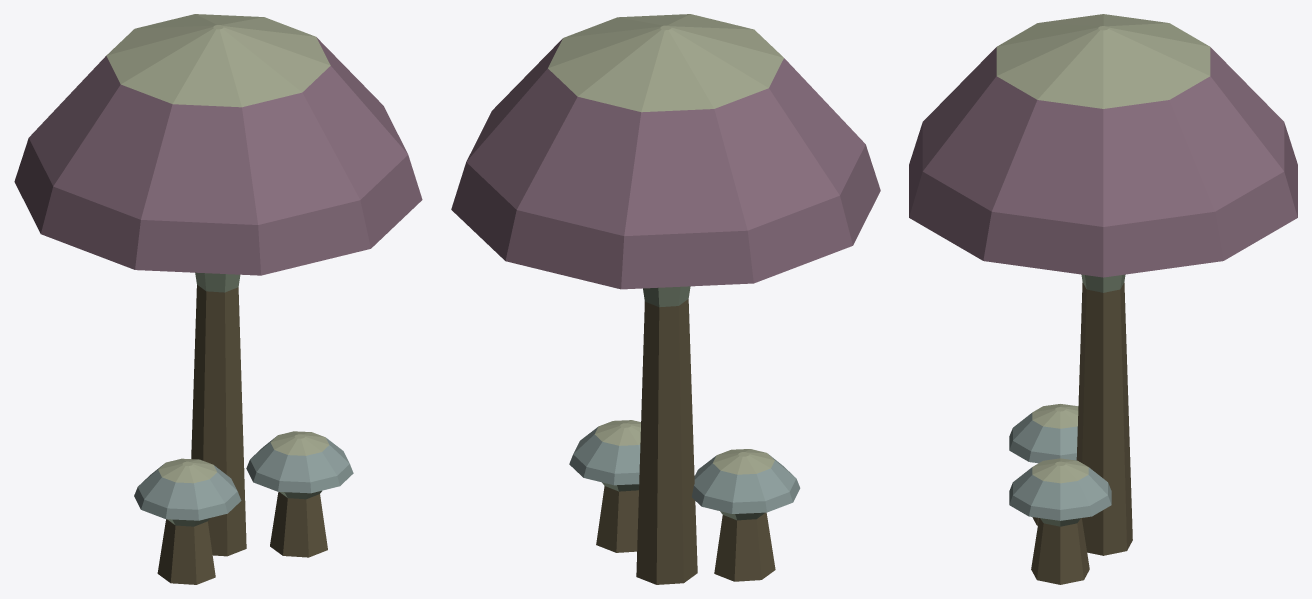
Rendered from mushroom-giant.glb.
3 views of the same model, side by side, from view 1: azimuth 30°, elevation 25°; view 2: azimuth 150°, elevation 25°; view 3: azimuth 270°, elevation 25° (orthographic). The views are drawn at different scales.
Visible parts, largest first — view 1: mushroom-giant__body; view 2: mushroom-giant__body; view 3: mushroom-giant__body.
Boxes of the visible parts, x1,y1,x2,y2 form: mushroom-giant__body: [14, 14, 422, 584]; mushroom-giant__body: [451, 14, 880, 584]; mushroom-giant__body: [909, 14, 1297, 584].
Size of the model in its own units: 1.9 by 2.64 by 1.81.
